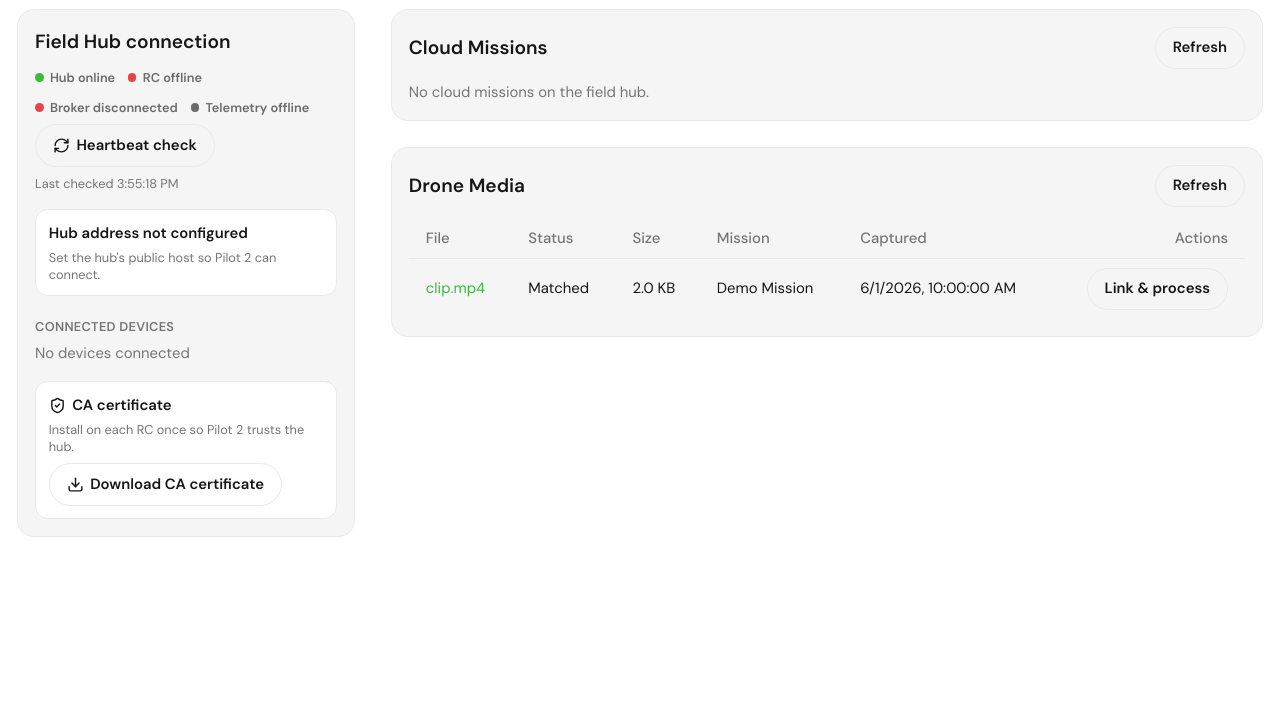
Scenario: FieldOpsPage › prompts to select an airport when none is active
Click the button with test id "field-ops-link-toggle-f1".
click(1157, 289)  # box [1086, 268, 1228, 310]
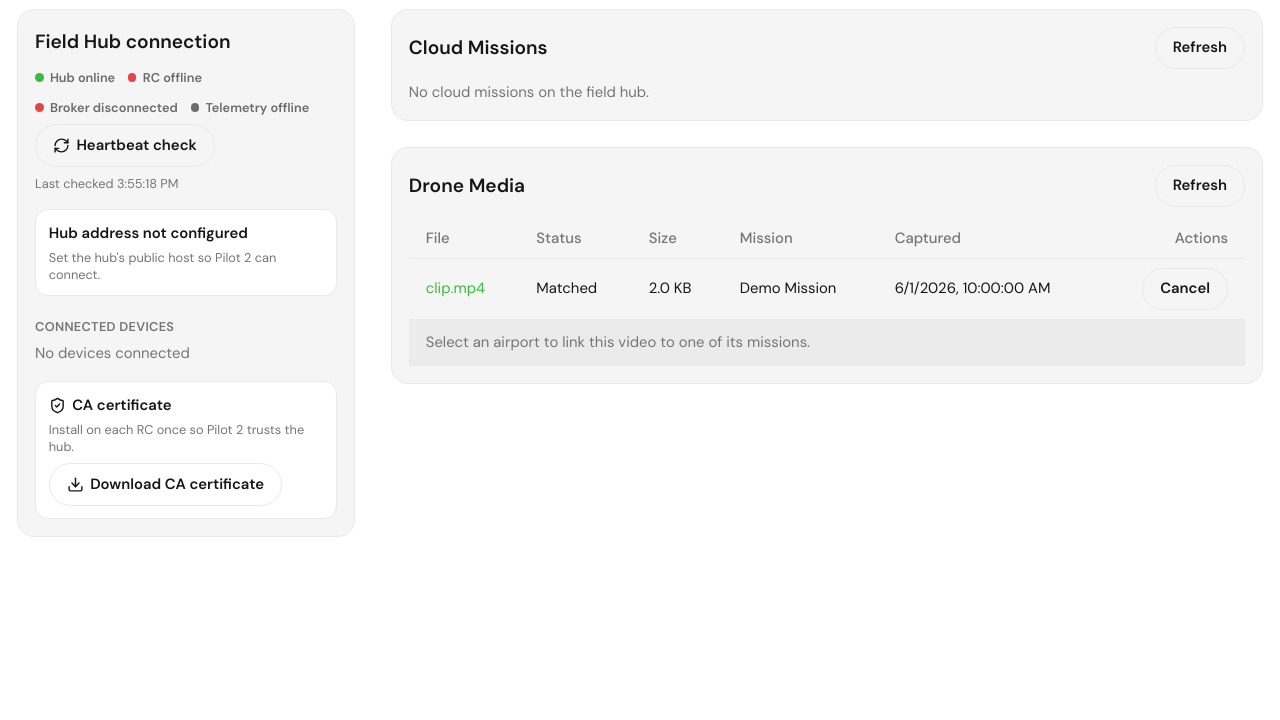
Expected: the text "Select an airport to link this video to one of its missions." is shown, [426, 332, 810, 352]
